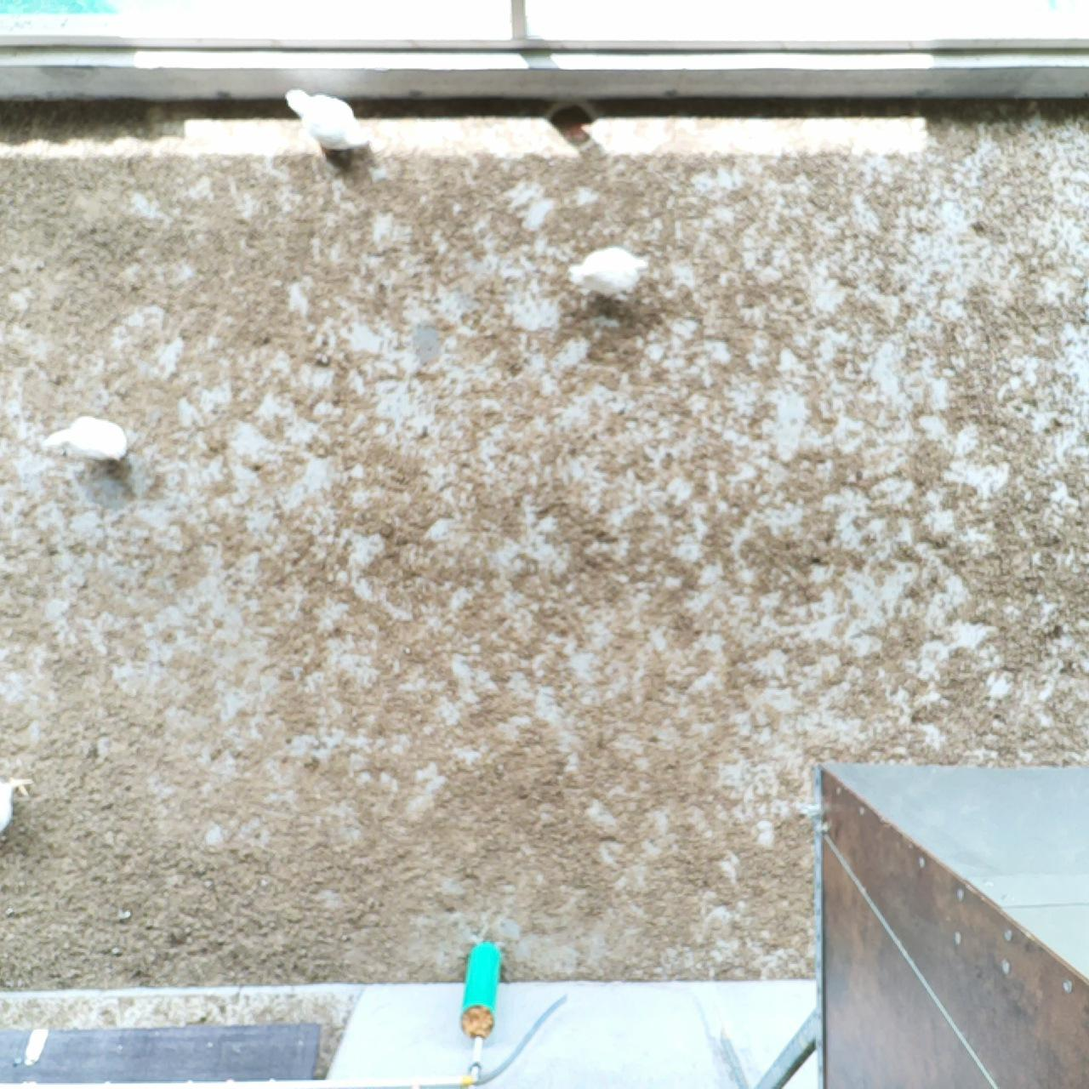chicken: (280, 84, 374, 160), (566, 242, 653, 303), (37, 410, 130, 466)
